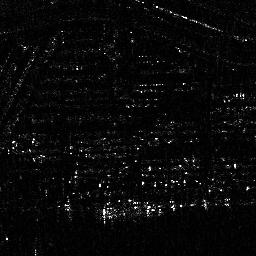ship: (96, 207, 165, 225)
